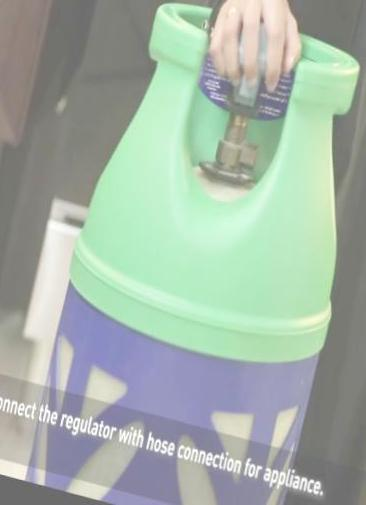cylinder: (1, 1, 366, 505)
